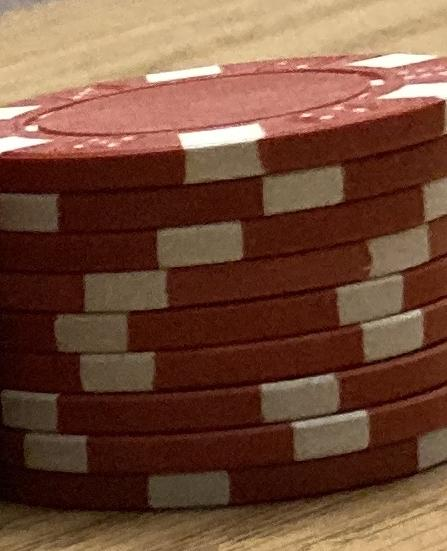Chip: (1, 1, 447, 551)
